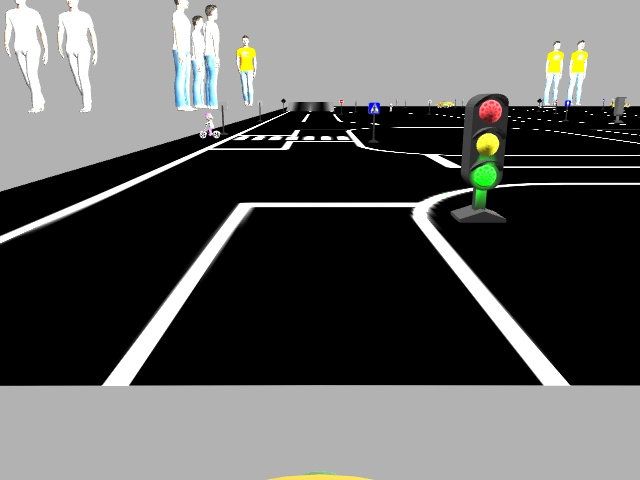Crosswalk: (367, 102, 378, 114)
Pedestrian: (198, 111, 219, 138)
TrafficLight: (462, 91, 506, 188)
